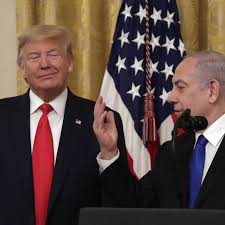middle_eastern_male: (167, 61, 225, 122)
